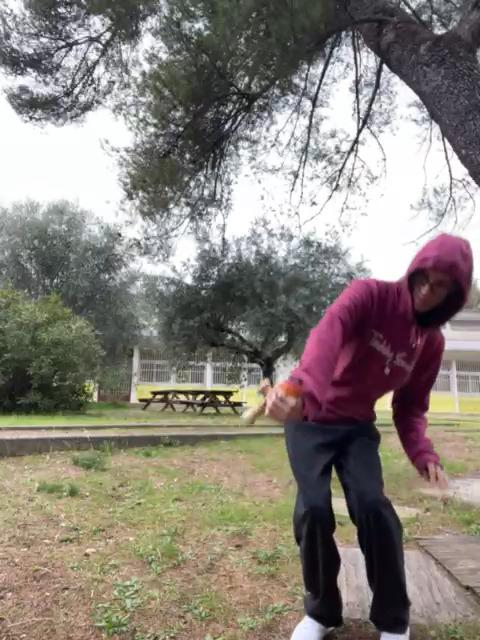kendama_ball: (281, 377, 304, 400)
